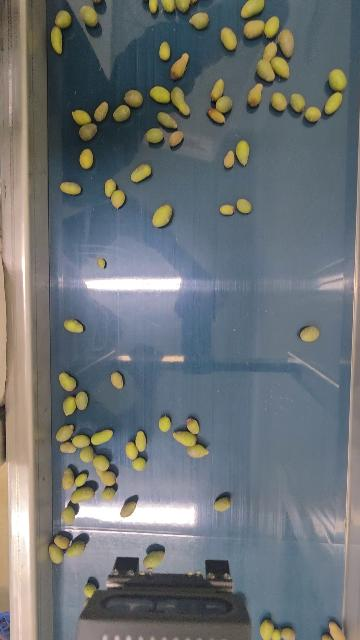Baby Potato: (170, 87, 192, 117), (169, 51, 192, 79), (151, 203, 173, 231), (129, 160, 152, 183), (278, 28, 296, 57), (271, 54, 291, 80), (328, 66, 348, 91), (50, 24, 66, 55), (324, 91, 343, 117), (247, 82, 266, 108), (240, 0, 267, 18), (79, 5, 101, 27), (257, 58, 276, 83), (220, 27, 239, 51), (241, 21, 266, 39), (185, 441, 210, 459), (235, 140, 251, 168), (165, 128, 188, 147), (64, 539, 87, 558), (77, 123, 101, 141), (148, 85, 170, 104), (142, 549, 164, 568), (172, 430, 198, 446), (263, 15, 281, 38), (289, 91, 307, 114), (59, 468, 76, 492), (71, 487, 95, 504), (156, 111, 178, 129), (62, 315, 84, 333), (59, 371, 77, 393), (58, 180, 82, 196), (94, 469, 118, 485), (53, 9, 72, 28), (124, 88, 143, 107), (271, 92, 289, 112), (300, 325, 320, 343), (185, 415, 203, 435), (71, 108, 92, 125), (121, 497, 137, 519), (49, 544, 65, 566), (61, 394, 76, 417), (112, 104, 131, 122), (190, 11, 209, 29), (216, 94, 234, 113), (56, 424, 75, 442), (99, 176, 116, 196), (93, 101, 109, 122), (75, 390, 91, 411), (70, 432, 91, 448), (212, 496, 233, 512), (79, 148, 94, 170), (211, 77, 225, 100), (206, 108, 226, 124), (110, 189, 125, 210), (92, 430, 113, 445), (146, 128, 164, 145), (263, 41, 278, 61), (306, 105, 321, 125), (221, 151, 236, 171), (91, 456, 111, 471), (62, 504, 76, 525), (109, 371, 125, 389), (330, 622, 346, 640), (260, 618, 273, 640), (216, 202, 236, 216), (134, 431, 148, 451), (159, 41, 172, 62), (157, 412, 170, 433), (124, 439, 137, 460), (54, 533, 70, 550), (128, 458, 148, 471), (81, 444, 94, 464), (101, 486, 116, 503), (74, 471, 88, 489), (238, 197, 252, 214), (83, 583, 97, 599), (60, 442, 76, 455), (281, 627, 295, 640), (146, 0, 159, 13), (161, 0, 175, 12), (176, 0, 192, 10), (271, 624, 281, 640), (96, 257, 108, 269), (320, 630, 334, 640)
